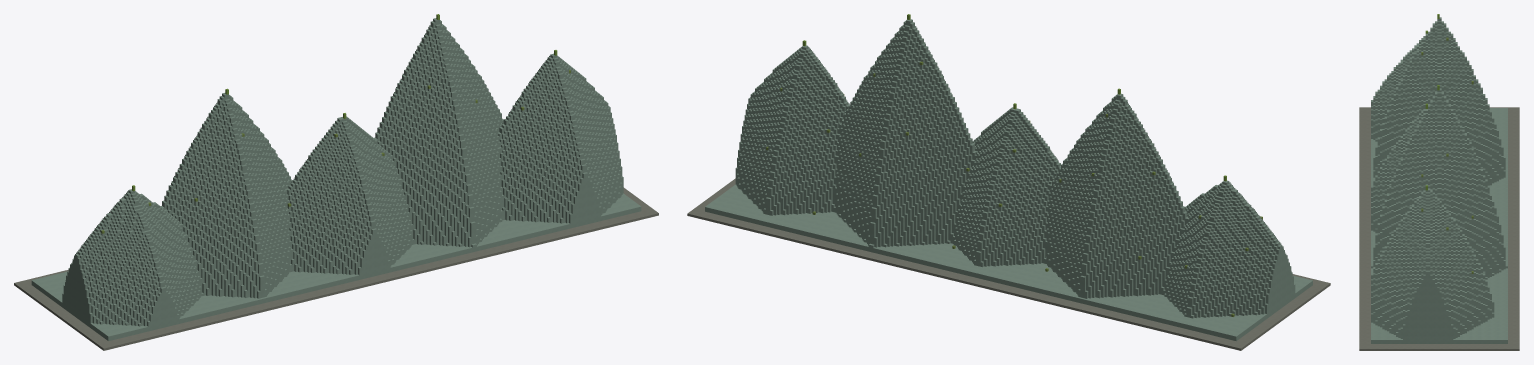
3 views of the same model, side by side, from view 1: azimuth 30°, elevation 25°; view 2: azimuth 150°, elevation 25°; view 3: azimuth 270°, elevation 25° (orthographic). The views are drawn at different scales.
Visible parts, largest first — view 1: 远山叠嶂岩脊代理母版, 远景代理下的明确展示岩板，非可探索山体（辅助）; view 2: 远山叠嶂岩脊代理母版, 远景代理下的明确展示岩板，非可探索山体（辅助）; view 3: 远山叠嶂岩脊代理母版, 远景代理下的明确展示岩板，非可探索山体（辅助）.
Boxes of the visible parts, bbox=[...] form: 远山叠嶂岩脊代理母版: bbox=[31, 14, 641, 341]; 远景代理下的明确展示岩板，非可探索山体（辅助）: bbox=[14, 187, 658, 350]; 远山叠嶂岩脊代理母版: bbox=[705, 14, 1312, 341]; 远景代理下的明确展示岩板，非可探索山体（辅助）: bbox=[687, 178, 1330, 350]; 远山叠嶂岩脊代理母版: bbox=[1371, 14, 1507, 343]; 远景代理下的明确展示岩板，非可探索山体（辅助）: bbox=[1359, 107, 1519, 350].
Bounding box in the file's own units: 50 × 18.2 × 14.
4 materials, 4 textured.
